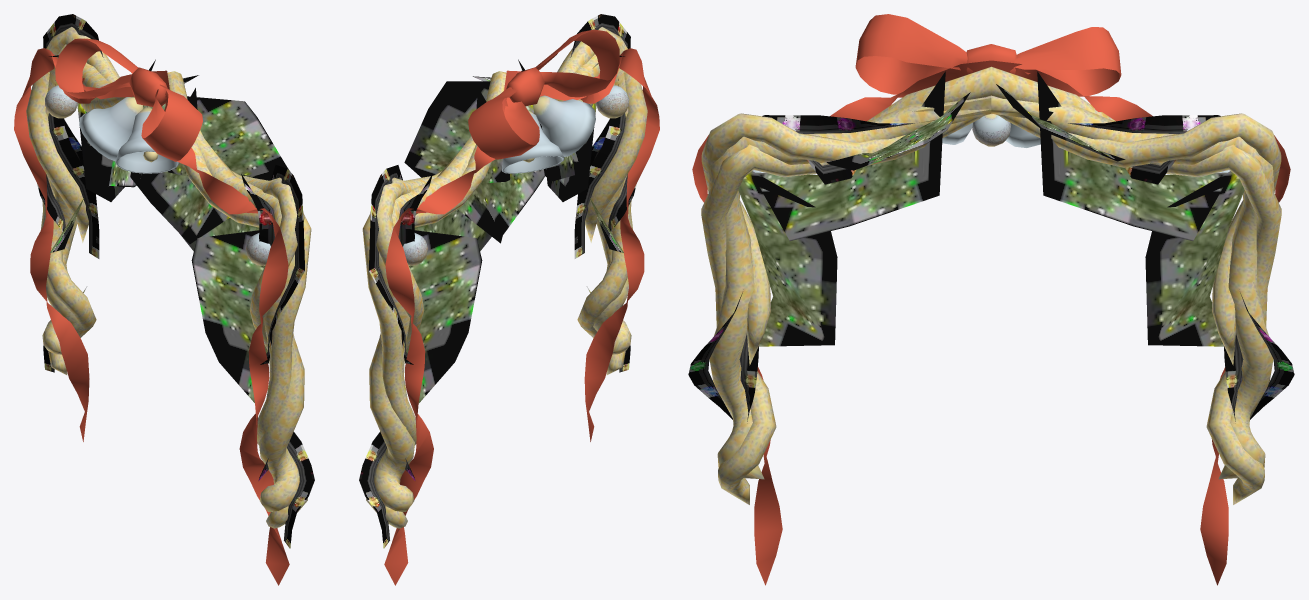
Rendered from door_frame_decoration.glb.
3 renders of one model, left to right at view 1: azimuth 30°, elevation 25°; view 2: azimuth 150°, elevation 25°; view 3: azimuth 270°, elevation 25°, orthographic. The views are drawn at different scales.
Visible parts, largest first — view 1: door_frame_decoration_LOD0; view 2: door_frame_decoration_LOD0; view 3: door_frame_decoration_LOD0.
Part boxes in pixels (x1,y1,x2,y2): door_frame_decoration_LOD0: (14,14,314,585); door_frame_decoration_LOD0: (359,14,659,585); door_frame_decoration_LOD0: (688,14,1294,585).
Size of the model in its own units: 0.5983 by 2.03 by 2.06.
Materials: 2 (2 with a texture image).
